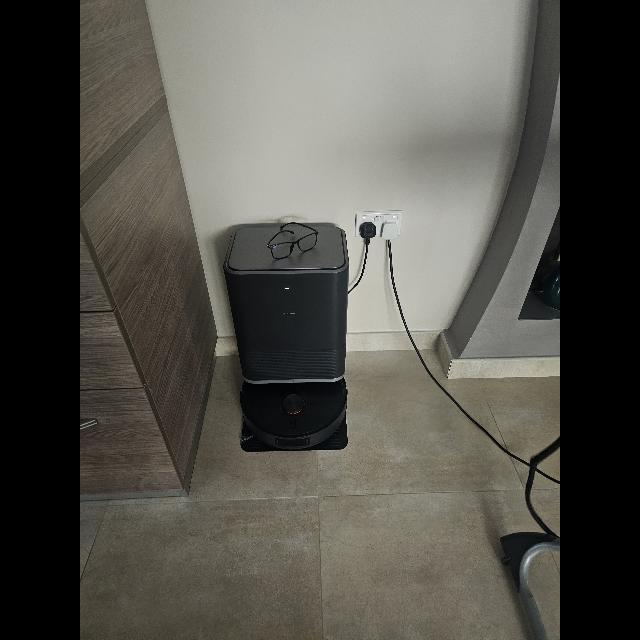glasses: (266, 222, 318, 260)
